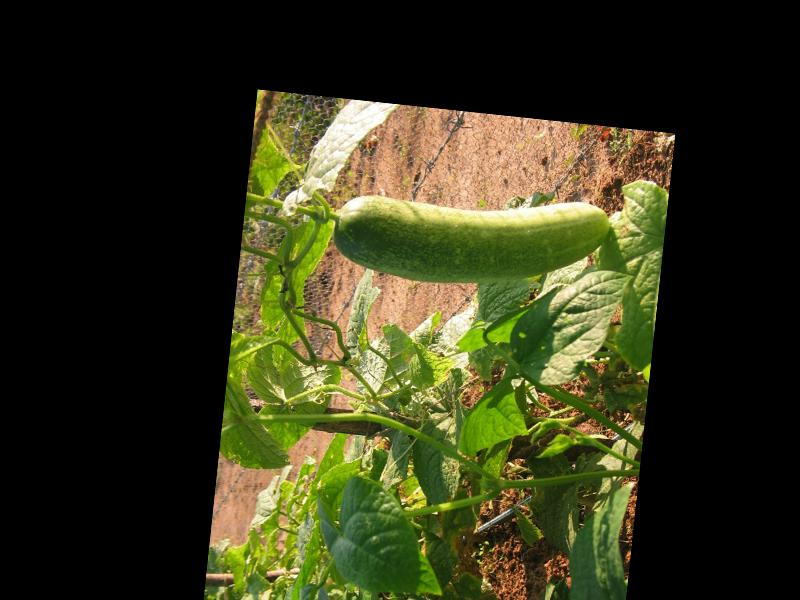Cucumber: (331, 177, 610, 299)
